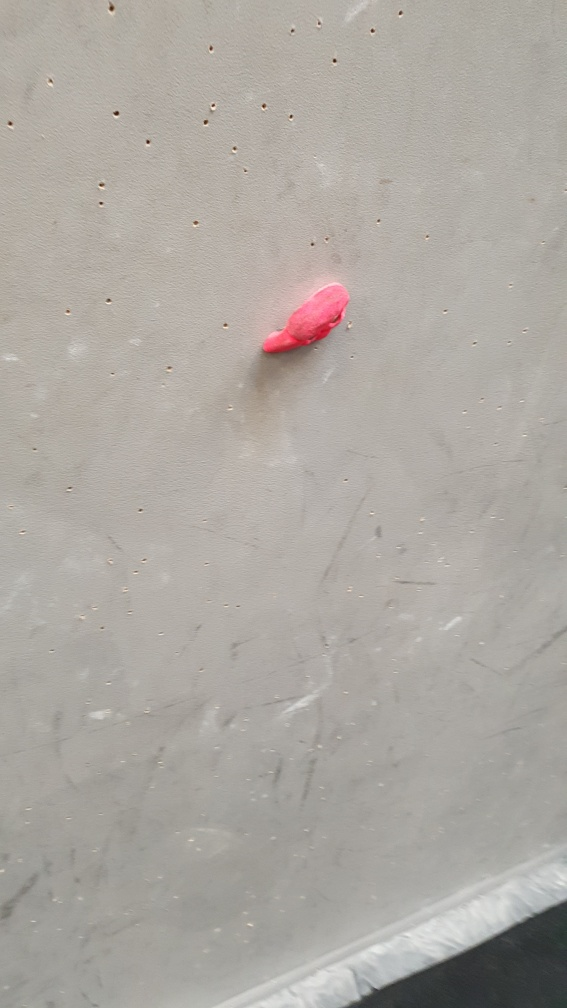Jug: (261, 281, 353, 360)
